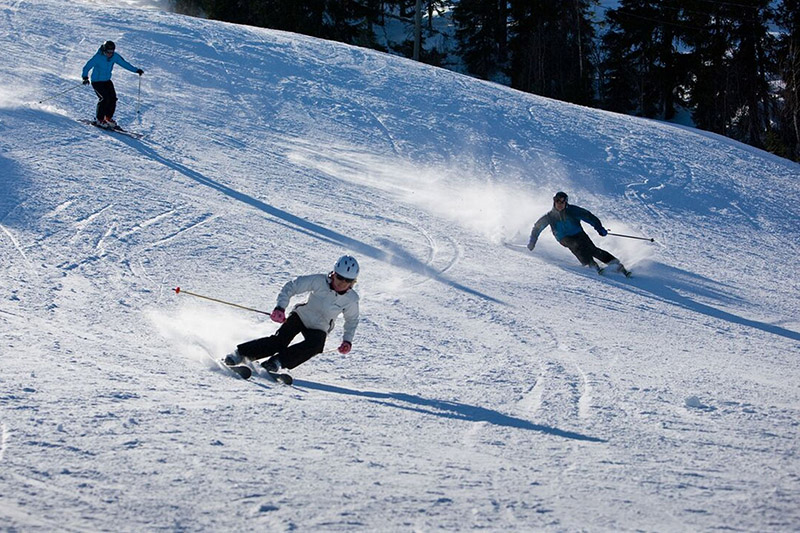skier: (161, 244, 370, 398), (496, 194, 657, 280), (30, 42, 152, 147)
